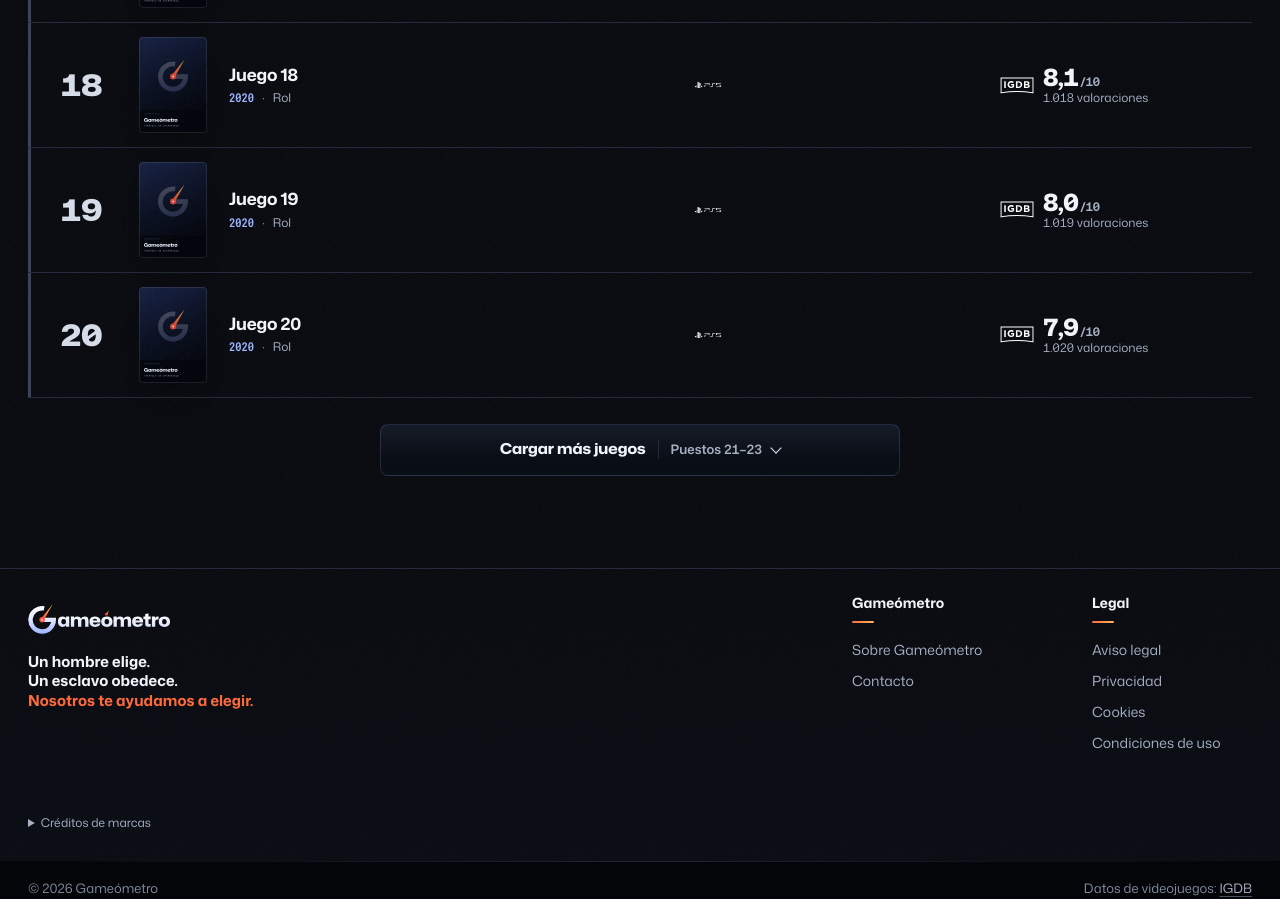
it: TOPómetro page › loads the next page on request, keeps one place per game and focuses the first new game
(page scrolled)
Click the button "Cargar más juegos Puestos 21–23": {"x": 640, "y": 450} top-left (380, 424), bottom-right (900, 476)
(page scrolled)
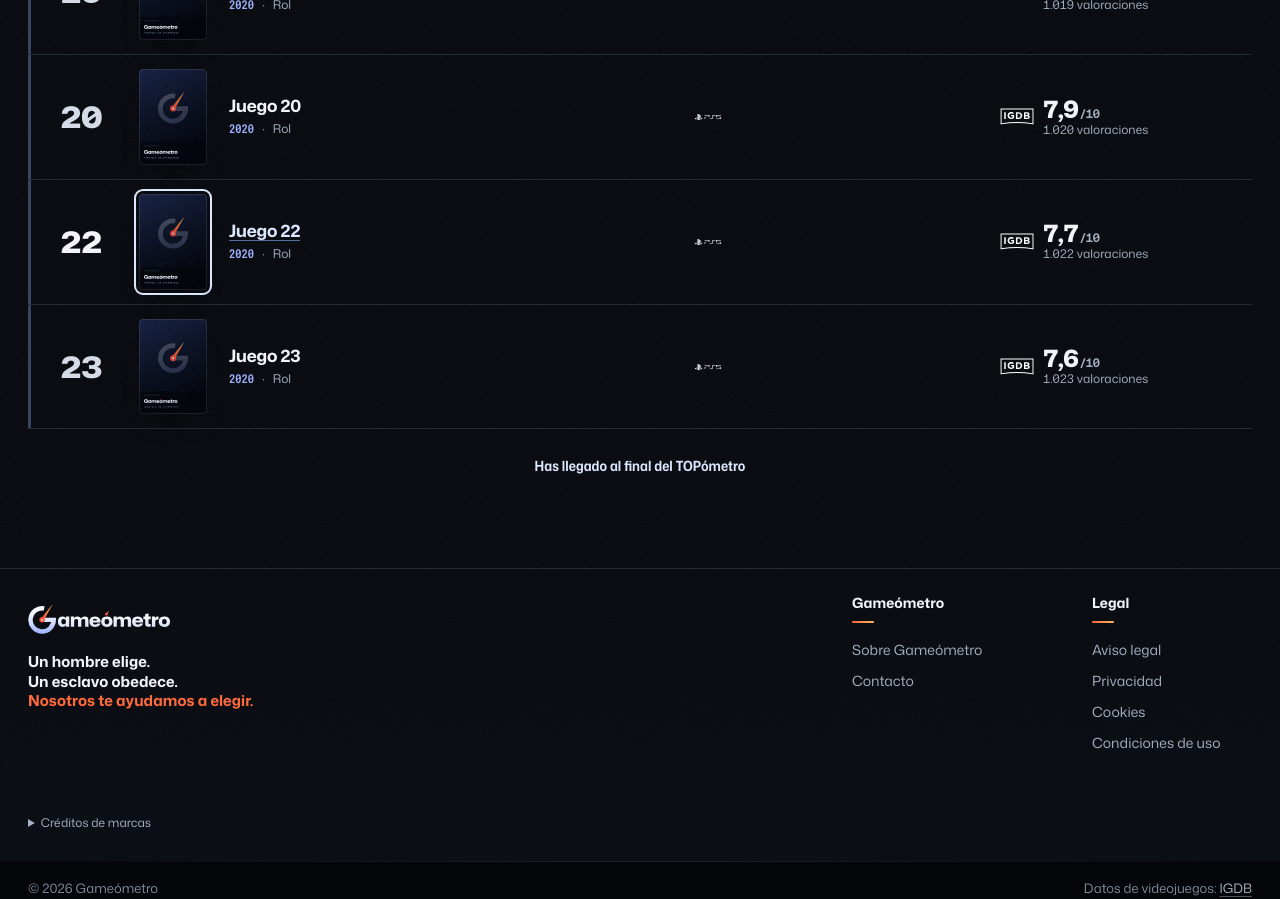
Expected: the number of links "Juego 20" is 1, top-left (229, 93), bottom-right (301, 117)
Expected: the text "Has llegado al final del TOPómetro" is shown, top-left (535, 455), bottom-right (745, 476)
Expected: the button "Cargar más juegos" is gone
